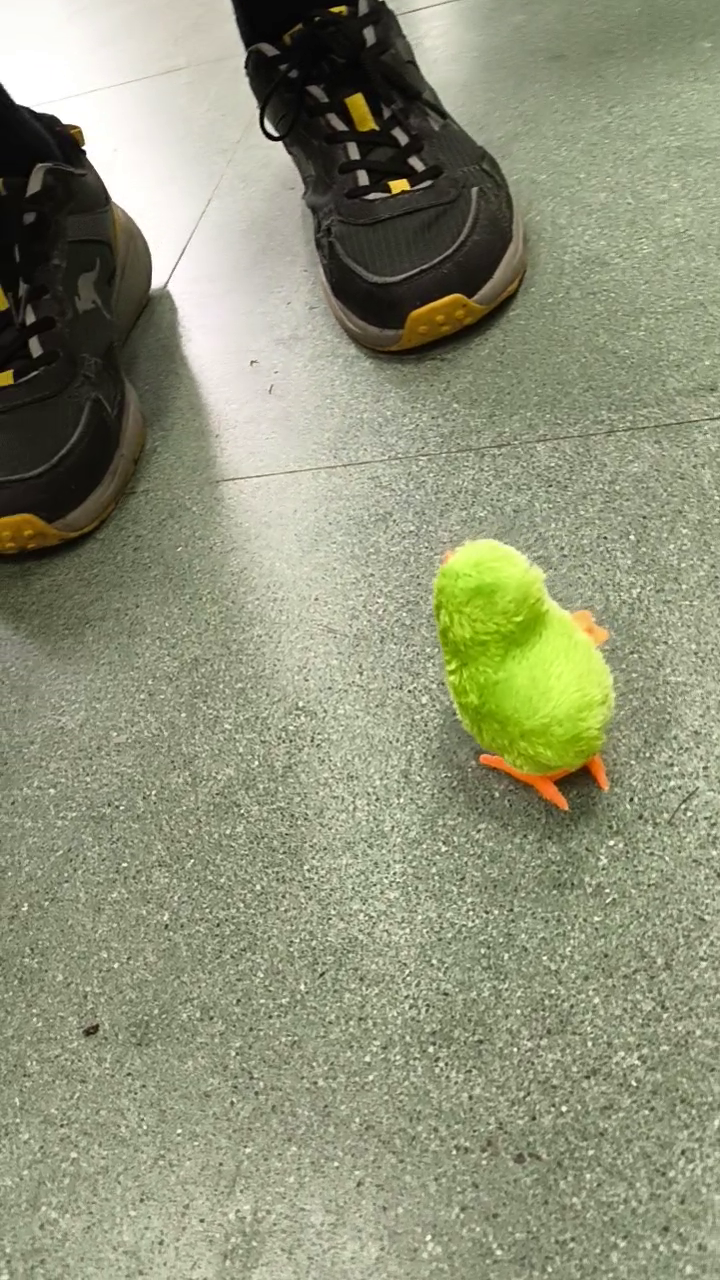green chicken: (426, 533, 620, 815)
